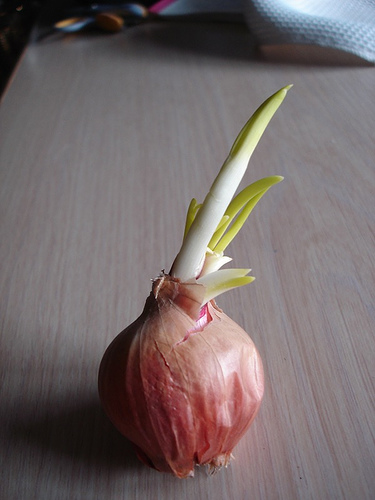onion: (93, 85, 295, 476)
